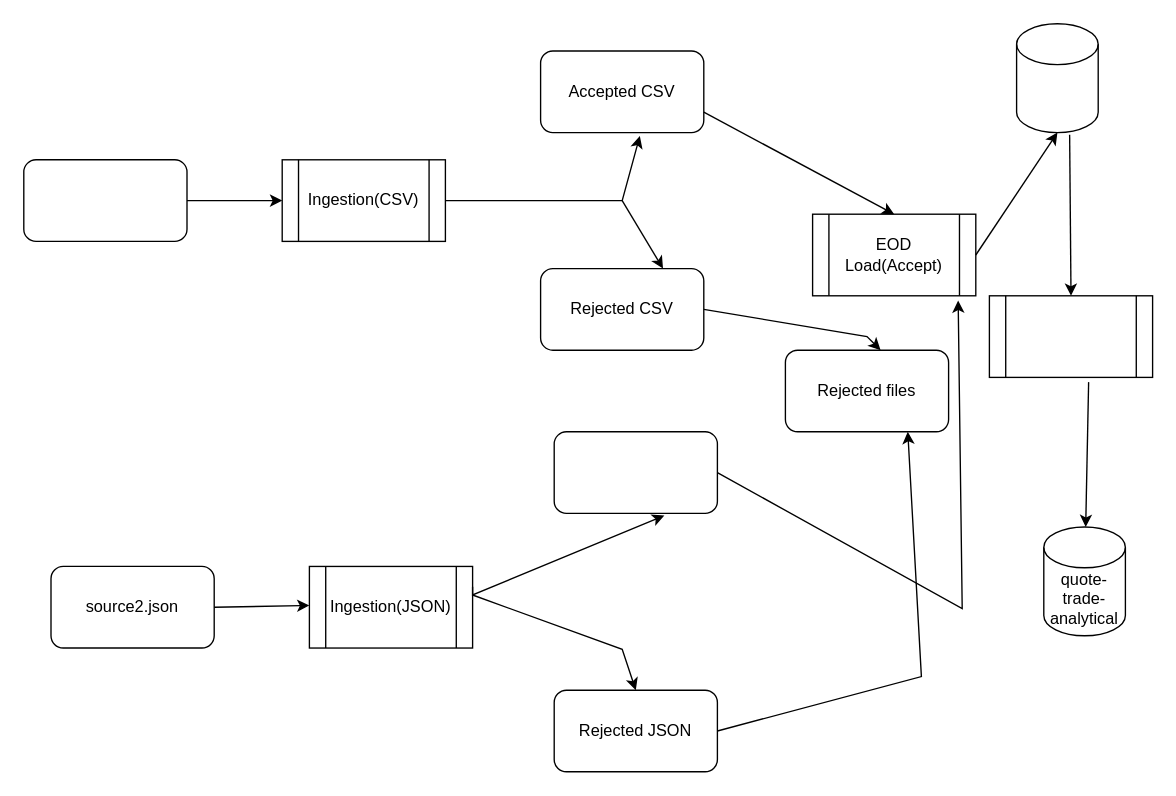
The diagram is 1176 pixels wide and 796 high, and some of its shapes have lost their labels. Each missing label, with the box of its shape:
Accepted JSON: (553, 430, 717, 513)
Analytical ETL: (988, 294, 1153, 377)
EOD Trade Q uote: (1015, 22, 1098, 133)
source1.csv: (22, 158, 187, 241)
